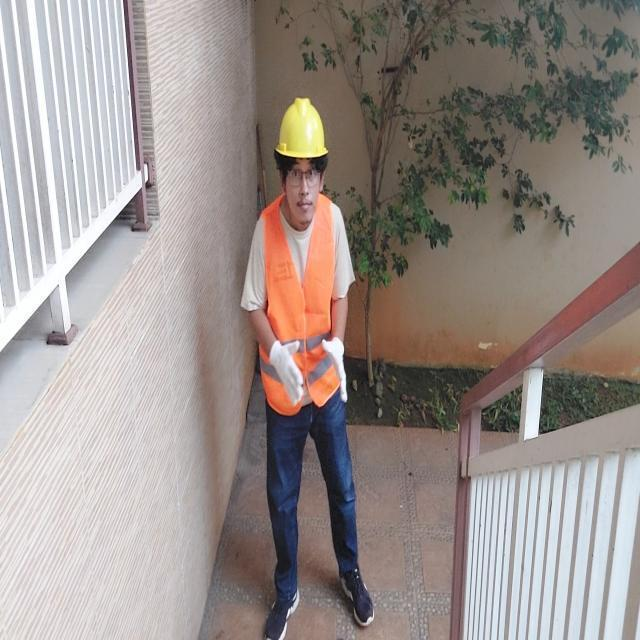helmet: (263, 88, 334, 160)
safety_vest: (254, 194, 348, 427)
